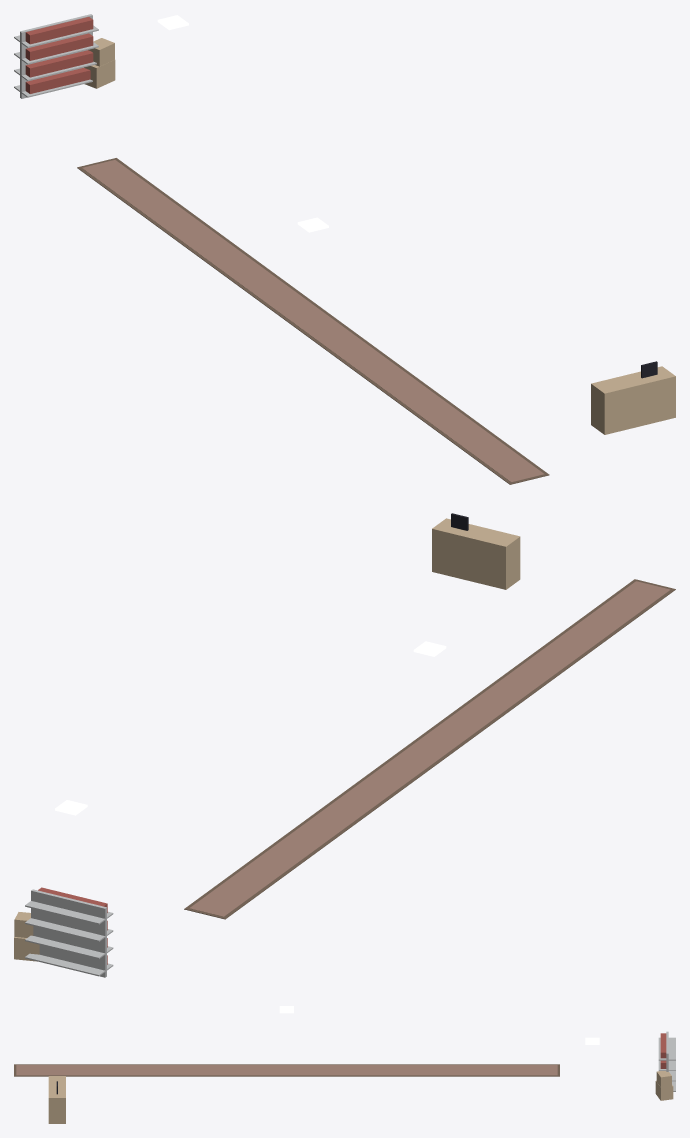
Rendered from fine-s0.glb.
The picture shows the model from 3 angles, top to bottom: view 1: azimuth 30°, elevation 25°; view 2: azimuth 150°, elevation 25°; view 3: azimuth 270°, elevation 25°; orthographic projection. The views are drawn at different scales.
Visible parts, largest first — view 1: soft-s0, shelving.000, shop-counter.000, cardboard-box.000; view 2: soft-s0, shelving.000, shop-counter.000, cardboard-box.000; view 3: soft-s0, shop-counter.000, shelving.000, cardboard-box.000.
Part boxes in pixels (left/top/right/bottom): soft-s0: left=77, top=158, right=549, bottom=484; shelving.000: left=14, top=14, right=98, bottom=98; shop-counter.000: left=591, top=361, right=675, bottom=434; cardboard-box.000: left=84, top=38, right=115, bottom=88; soft-s0: left=184, top=579, right=675, bottom=919; shelving.000: left=25, top=887, right=113, bottom=977; shop-counter.000: left=432, top=513, right=520, bottom=589; cardboard-box.000: left=14, top=912, right=39, bottom=961; soft-s0: left=14, top=1064, right=559, bottom=1076; shop-counter.000: left=48, top=1076, right=65, bottom=1123; shelving.000: left=658, top=1031, right=675, bottom=1091; cardboard-box.000: left=655, top=1071, right=673, bottom=1100.
Size of the model in its own units: 4.88 by 2.35 by 22.97.
